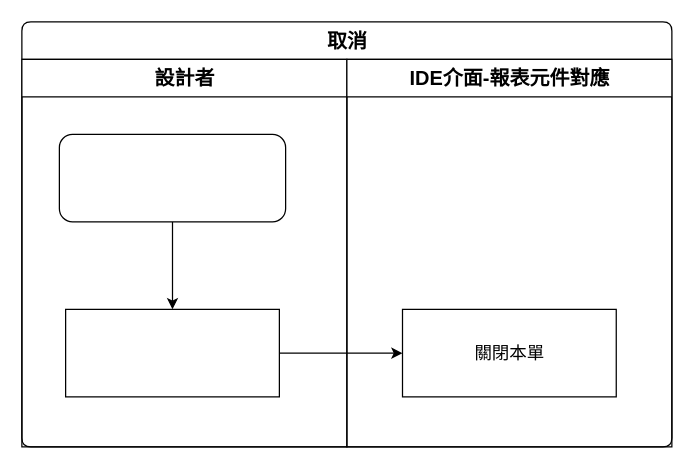
This 694x469 diagram has some shape labels left out. The box of each missing label's shape, as (x1, y1, x2, y2) in pixels:
執行按鈕: 取消: (64, 308, 279, 397)
開啟: 報表元件對應: (58, 133, 286, 222)
